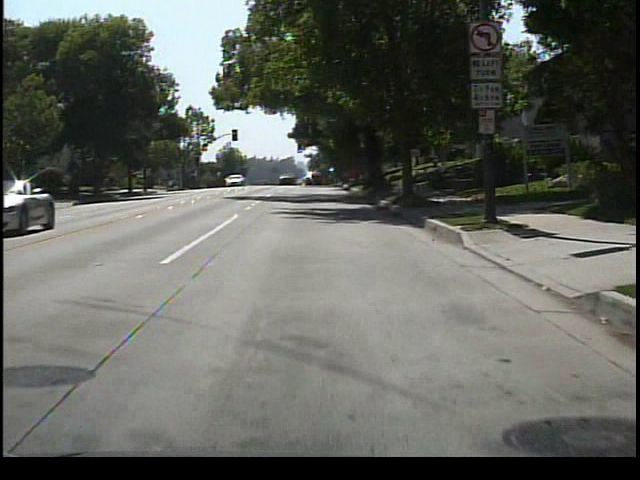person: (428, 155, 449, 192)
